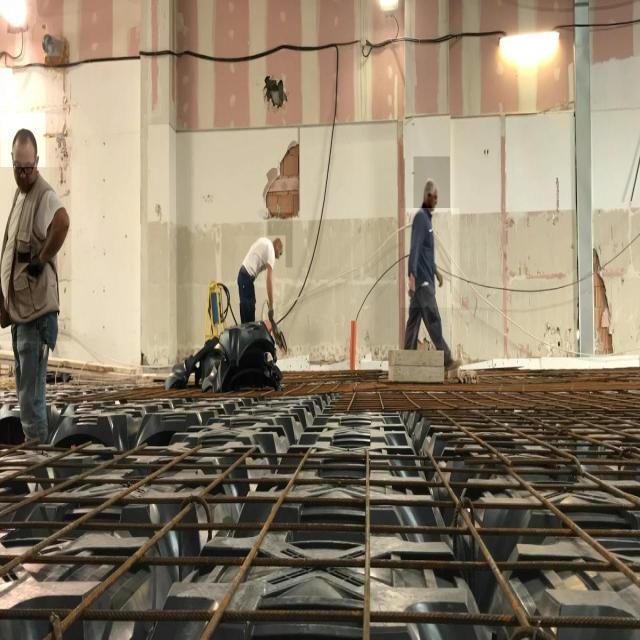Helmet: (0, 167, 72, 341), (400, 209, 460, 308), (0, 113, 46, 207), (236, 236, 286, 304), (414, 156, 450, 234), (268, 212, 292, 268)
